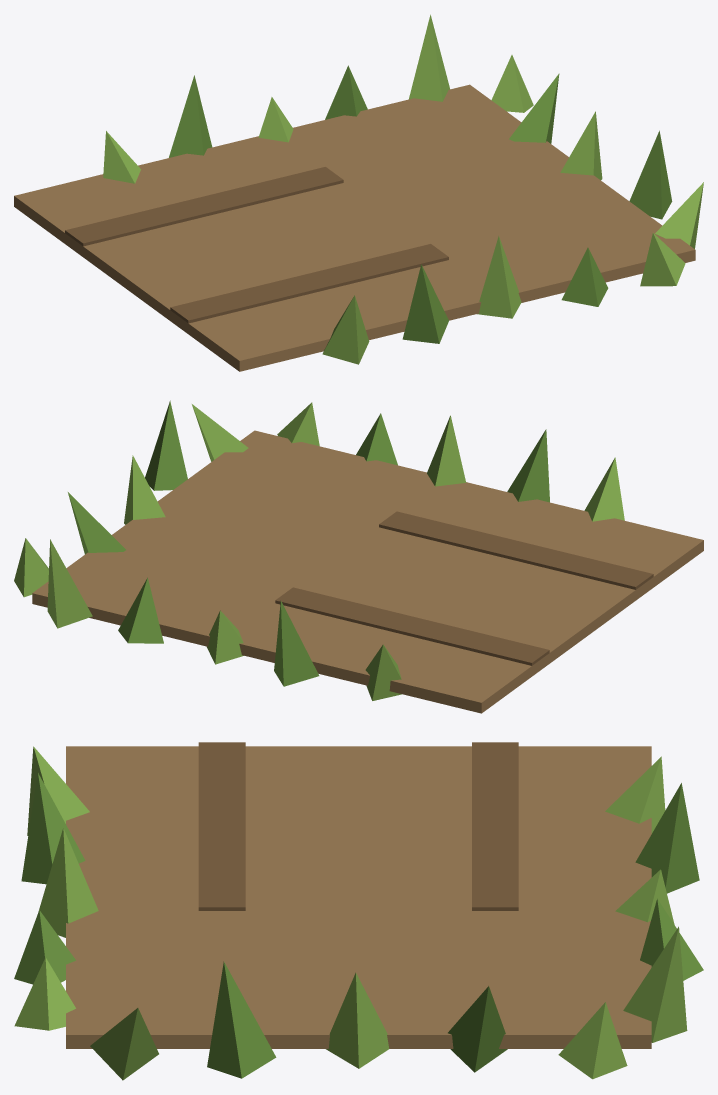
File: road_dirt_end.glb
3 views of the same model, one above another, from view 1: azimuth 30°, elevation 25°; view 2: azimuth 150°, elevation 25°; view 3: azimuth 270°, elevation 25° (orthographic). The views are drawn at different scales.
Parts seen in each view (by area): view 1: street_dirt_end; view 2: street_dirt_end; view 3: street_dirt_end.
Part boxes in pixels (x1,y1,x2,y2): street_dirt_end: [14, 14, 703, 371]; street_dirt_end: [14, 400, 703, 713]; street_dirt_end: [14, 742, 703, 1080].
Bounding box in the file's own units: 1.92 × 0.3483 × 1.77.
